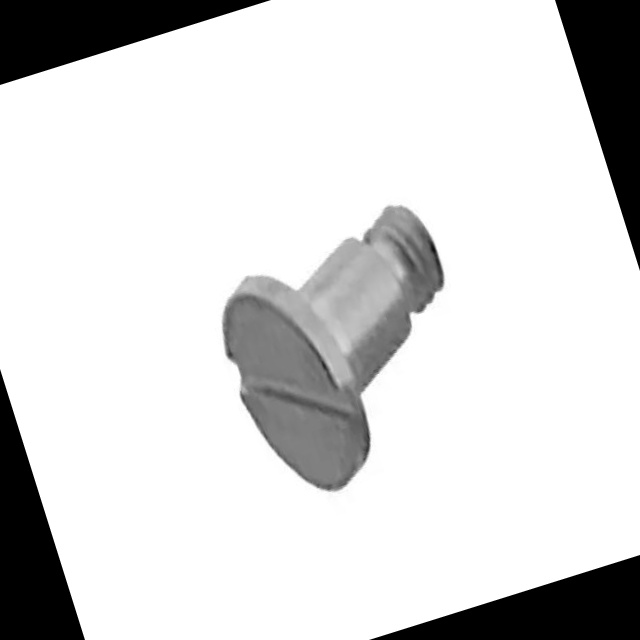duz: (203, 254, 388, 513)
